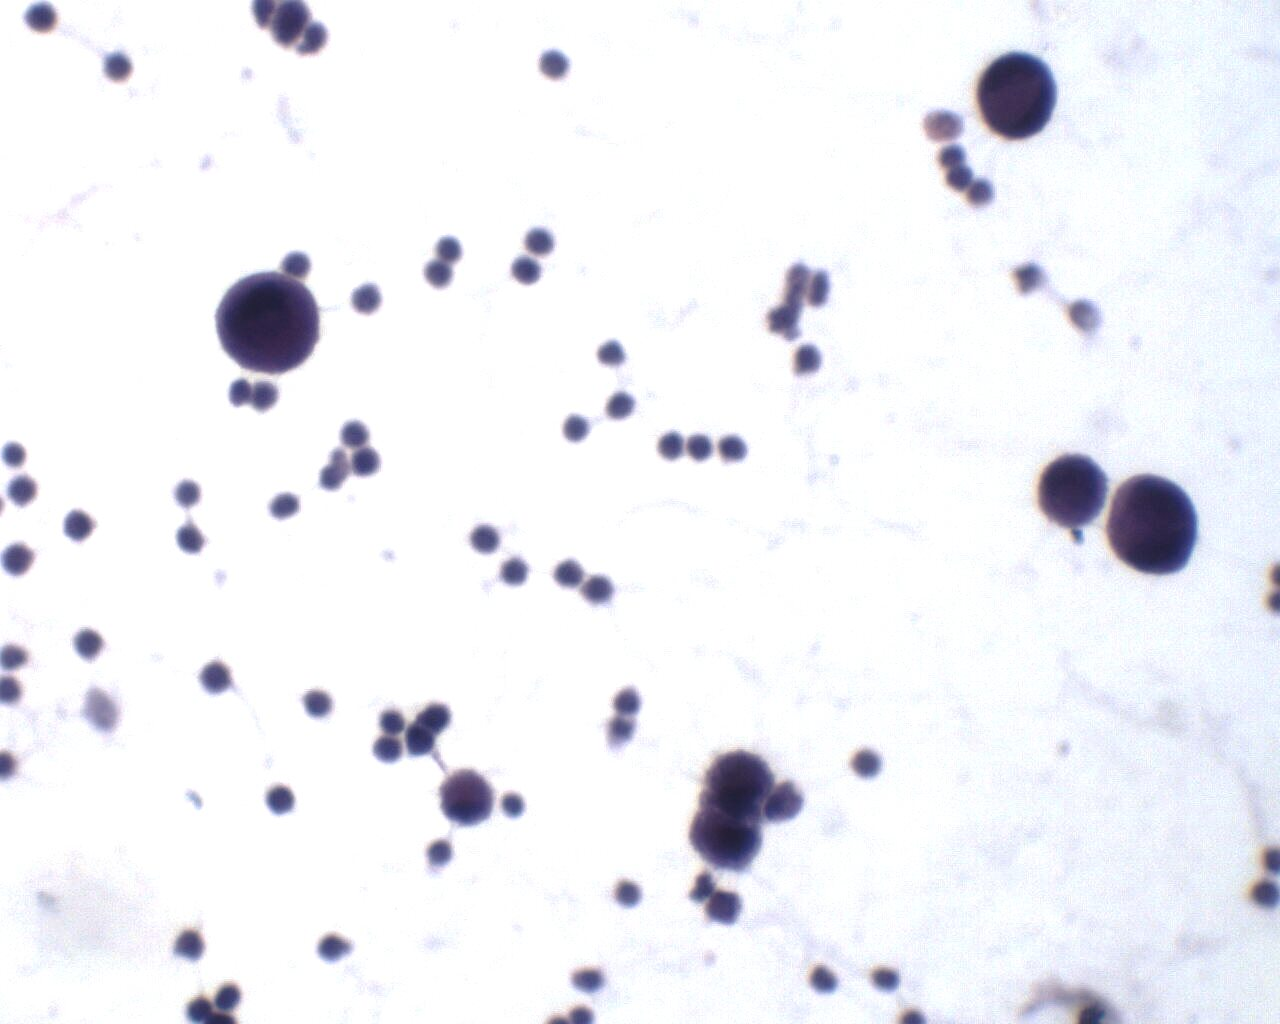ab: (208, 271, 323, 379), (1106, 471, 1201, 578), (978, 44, 1066, 145), (1035, 443, 1107, 536), (686, 810, 767, 875)
lymph: (63, 505, 104, 551), (530, 43, 575, 84), (300, 680, 339, 726), (262, 778, 299, 825), (579, 569, 621, 610), (70, 618, 106, 664), (23, 2, 63, 40), (522, 222, 559, 261), (466, 522, 503, 560), (717, 430, 752, 466), (559, 413, 594, 449), (495, 787, 530, 823), (265, 487, 298, 523)
